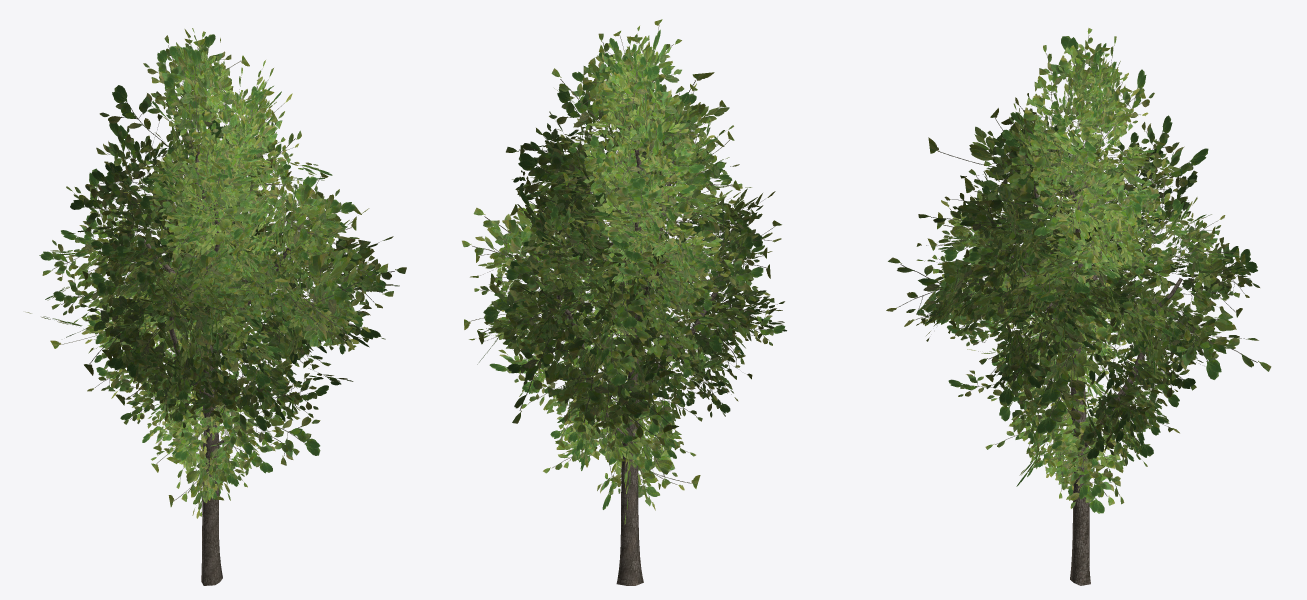
Rendered from tree_linden_v1_l0.glb.
3 views of the same model, side by side, from view 1: azimuth 30°, elevation 25°; view 2: azimuth 150°, elevation 25°; view 3: azimuth 270°, elevation 25° (orthographic). The views are drawn at different scales.
Visible parts, largest first — view 1: tree_linden_v1_l0; view 2: tree_linden_v1_l0; view 3: tree_linden_v1_l0.
Part boxes in pixels (x1,y1,x2,y2): tree_linden_v1_l0: (26,28,406,585); tree_linden_v1_l0: (462,19,786,585); tree_linden_v1_l0: (886,28,1271,585).
Size of the model in its own units: 7.99 by 12.08 by 8.91.
2 materials, 2 textured.
